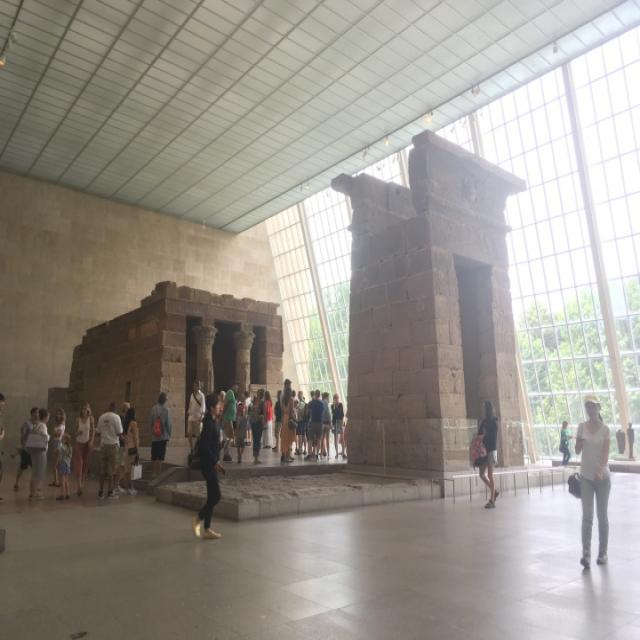body: (567, 392, 618, 572), (190, 394, 230, 542), (470, 398, 500, 511), (94, 398, 123, 498), (70, 399, 96, 496), (146, 390, 173, 482), (13, 405, 39, 491), (26, 406, 49, 502), (123, 406, 143, 496), (246, 385, 267, 466), (303, 389, 325, 461), (221, 378, 239, 465), (186, 378, 206, 454), (49, 404, 67, 488), (116, 401, 130, 496), (329, 392, 346, 460), (56, 433, 73, 500), (319, 391, 335, 462), (338, 392, 356, 455), (280, 386, 294, 464), (230, 400, 247, 464), (294, 390, 308, 456), (260, 390, 274, 449), (271, 389, 283, 454), (211, 392, 222, 460), (558, 420, 574, 466), (0, 392, 6, 504), (244, 390, 254, 447), (278, 378, 294, 411), (623, 419, 636, 458), (290, 387, 300, 409)
